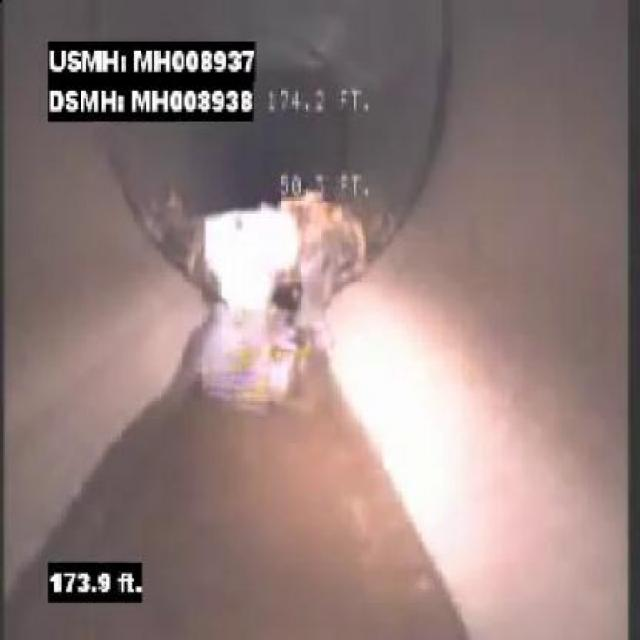Obstacle: (140, 163, 405, 355)
